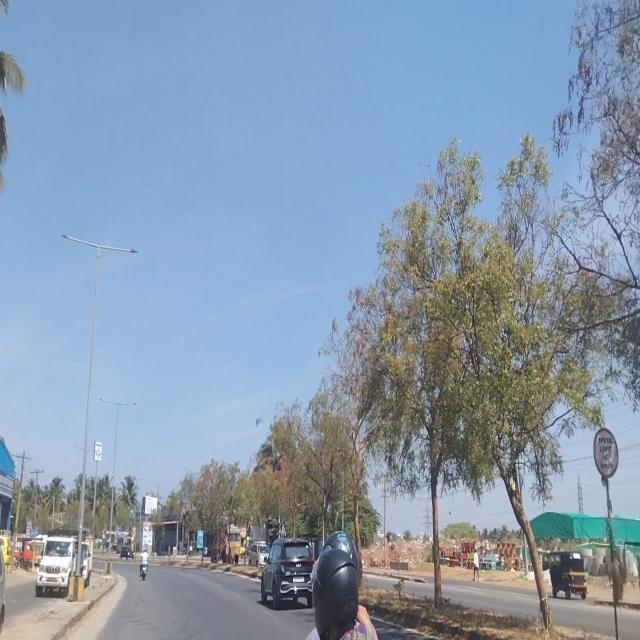bien_chi_dan: (594, 427, 620, 480)
